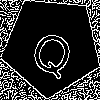Q: (26, 21, 80, 81)
